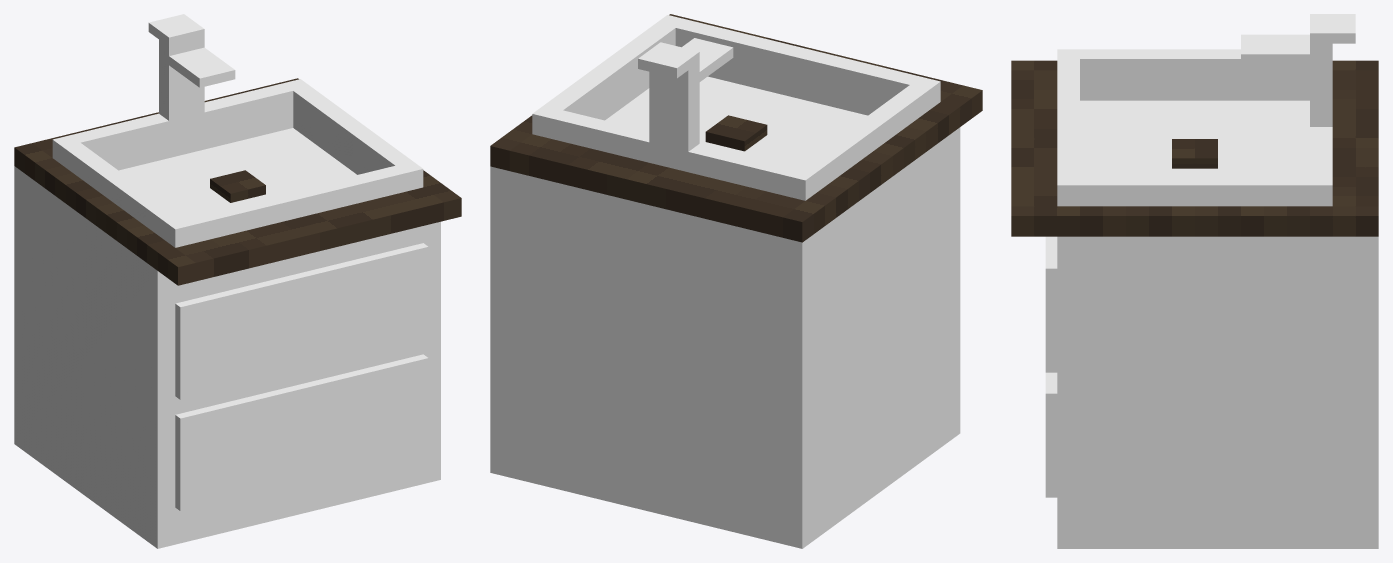
Rendered from sink.gltf.
3 views of the same model, side by side, from view 1: azimuth 30°, elevation 25°; view 2: azimuth 150°, elevation 25°; view 3: azimuth 270°, elevation 25° (orthographic). The views are drawn at different scales.
Parts seen in each view (by area): view 1: cube.019_cube.041, cube.004_cube.026; view 2: cube.019_cube.041, cube.004_cube.026; view 3: cube.019_cube.041, cube.004_cube.026.
Part boxes in pixels (bbox=[...]): cube.019_cube.041: bbox=[14, 14, 440, 548]; cube.004_cube.026: bbox=[14, 78, 461, 285]; cube.019_cube.041: bbox=[490, 15, 960, 548]; cube.004_cube.026: bbox=[490, 14, 982, 242]; cube.019_cube.041: bbox=[1045, 14, 1378, 548]; cube.004_cube.026: bbox=[1011, 60, 1378, 236].
Bounding box in the file's own units: 10 × 13.44 × 10.
